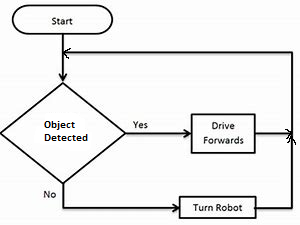arrow: (61, 46, 294, 135), (61, 180, 180, 213), (254, 135, 293, 210), (123, 128, 191, 139), (58, 32, 68, 83), (254, 128, 292, 140)
decision: (1, 82, 127, 185)
process: (189, 112, 258, 156), (178, 195, 258, 220)
terminator: (11, 3, 114, 35)
text: (43, 119, 89, 143), (203, 120, 245, 146), (192, 202, 242, 212), (50, 15, 73, 26), (131, 120, 148, 130), (43, 189, 57, 199)
